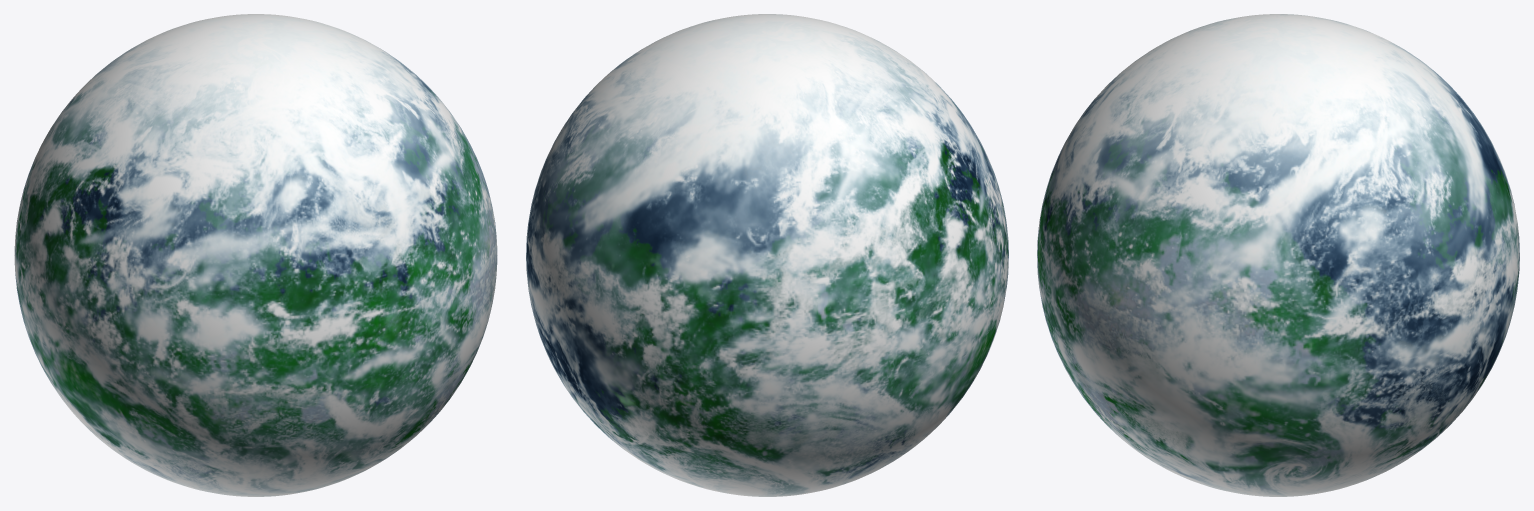
3 renders of one model, left to right at view 1: azimuth 30°, elevation 25°; view 2: azimuth 150°, elevation 25°; view 3: azimuth 270°, elevation 25°, orthographic.
Parts seen in each view (by area): view 1: Nubes, Esfera; view 2: Nubes, Esfera; view 3: Nubes, Esfera.
Boxes of the visible parts, <box> form: Nubes: <box>14,14,497,496</box>; Esfera: <box>16,80,496,475</box>; Nubes: <box>526,14,1008,496</box>; Esfera: <box>526,97,1008,483</box>; Nubes: <box>1037,14,1519,496</box>; Esfera: <box>1037,86,1518,485</box>.
Bounding box in the file's own units: 2006 × 2006 × 2006.
2 materials, 2 textured.
